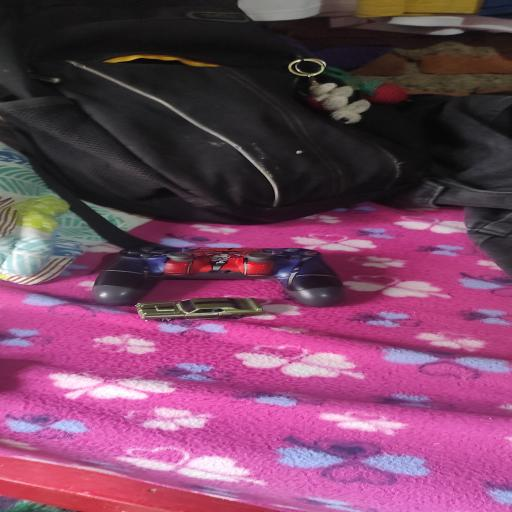Carrito: (136, 297, 264, 322)
